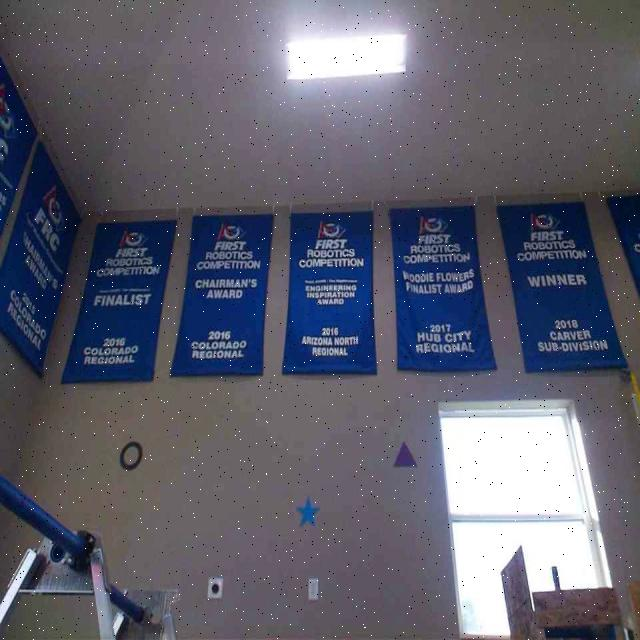ring_black: (120, 438, 144, 469)
star_blue: (295, 494, 320, 529)
triangle_purple: (393, 438, 418, 468)
